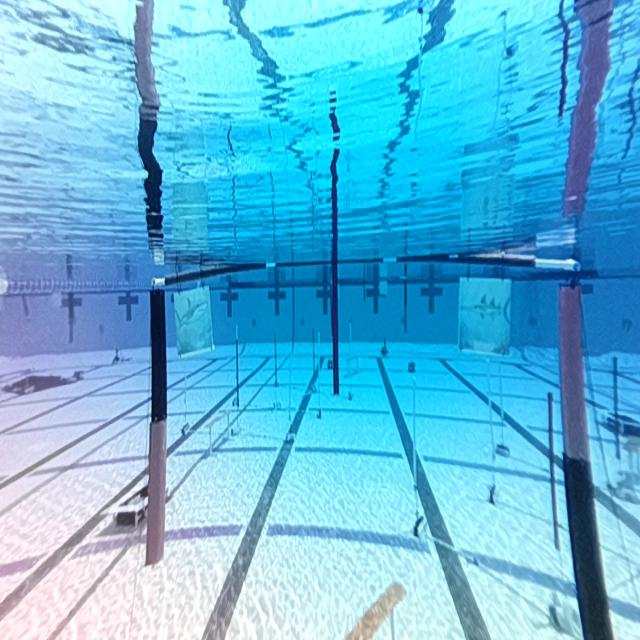pointed_nose: (456, 271, 512, 360)
round_nose: (174, 285, 212, 351)
